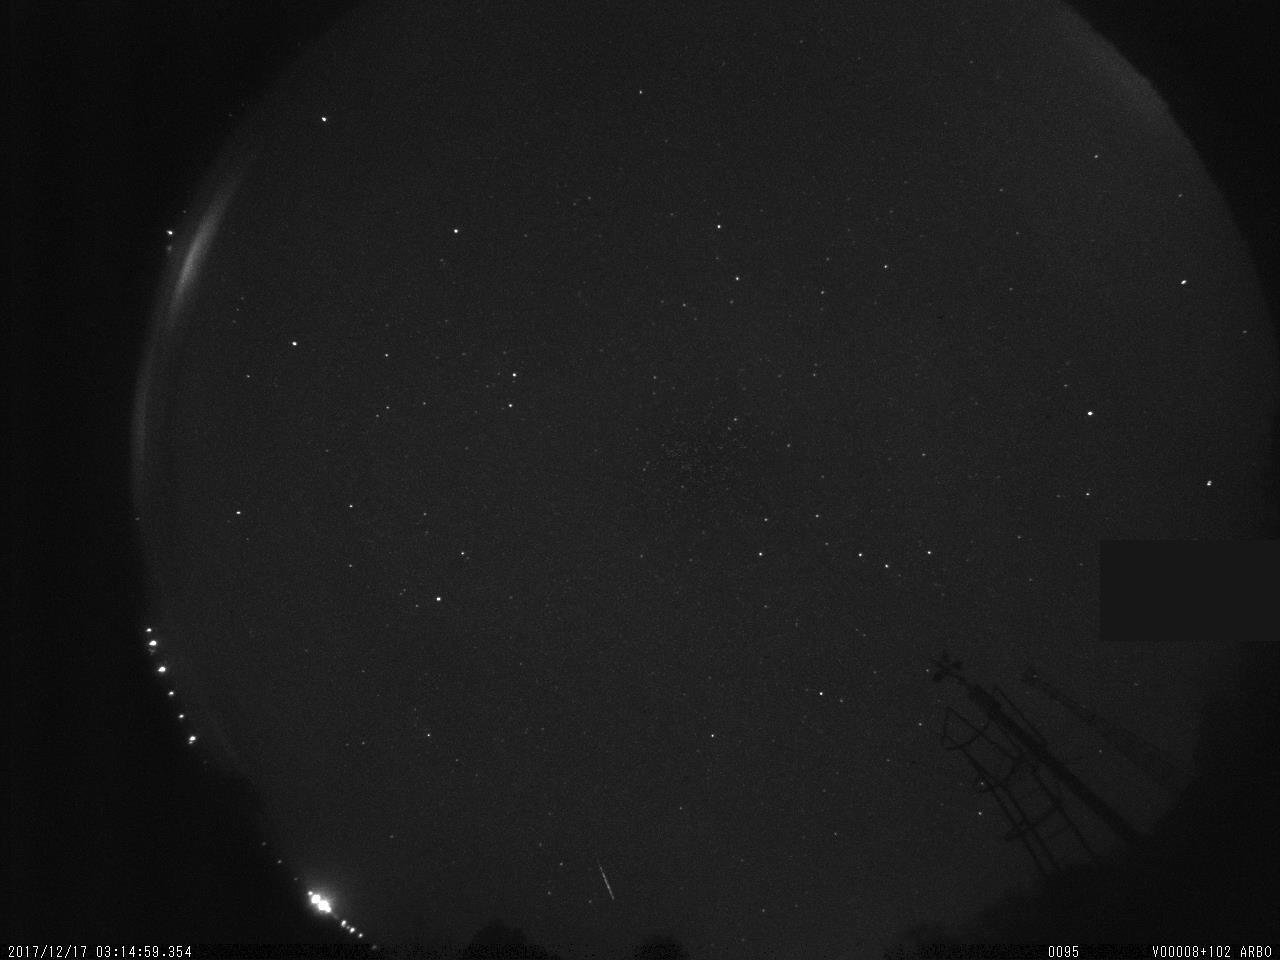meteor: (580, 849, 632, 914)
